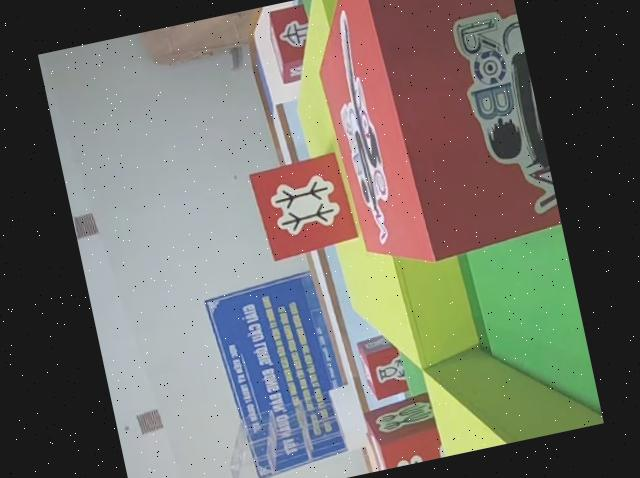R1: (299, 0, 563, 277)
R2 Fake: (361, 392, 452, 472), (265, 2, 329, 87)
R2 Real: (249, 152, 361, 262), (357, 330, 419, 402)
